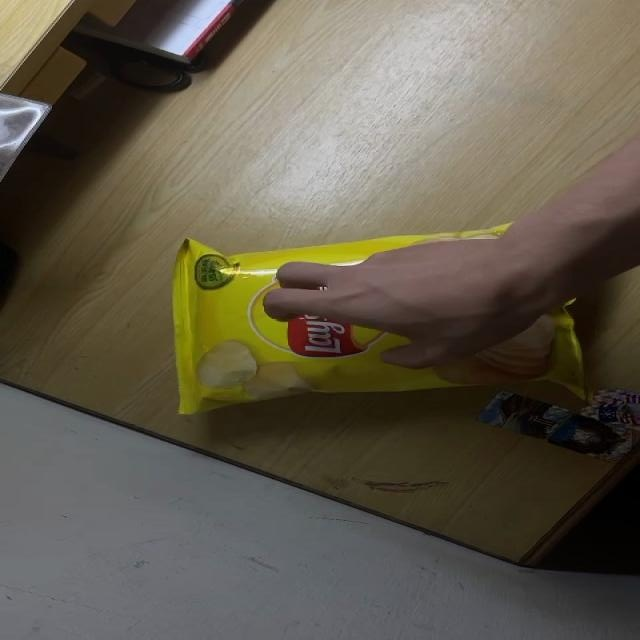Lay-s-original: (175, 215, 579, 414)
